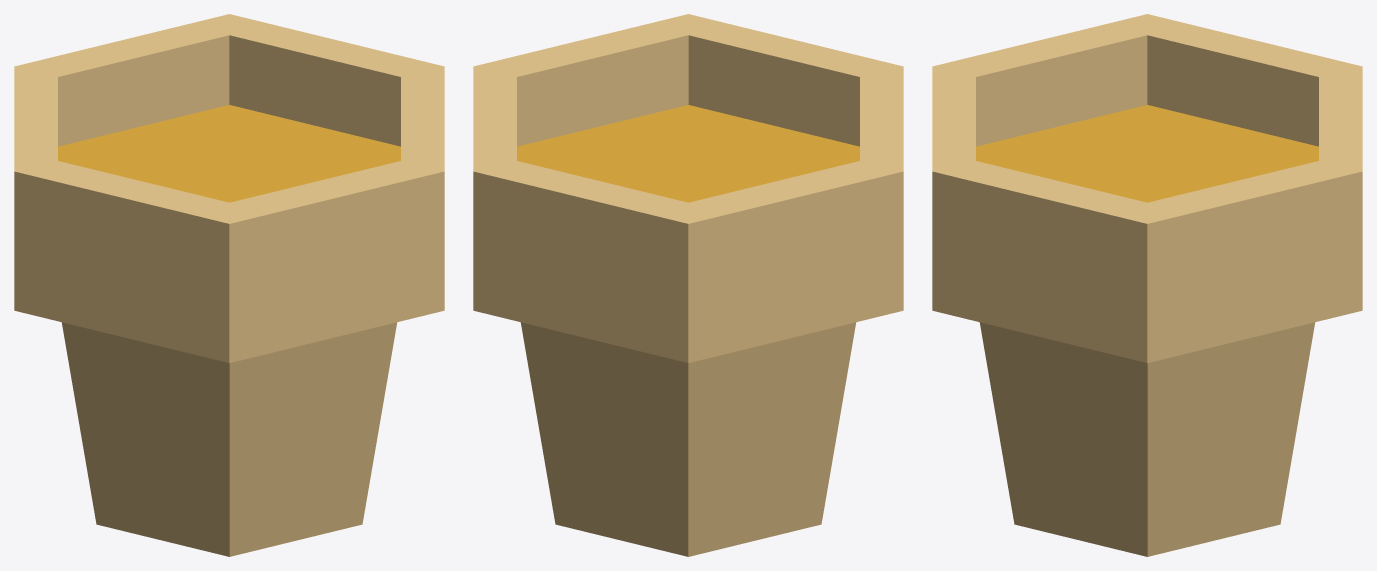
File: decoracao-vaso.glb
3 renders of one model, left to right at view 1: azimuth 30°, elevation 25°; view 2: azimuth 150°, elevation 25°; view 3: azimuth 270°, elevation 25°, orthographic.
Parts seen in each view (by area): view 1: pot_small; view 2: pot_small; view 3: pot_small.
Part boxes in pixels (x1,y1,x2,y2): pot_small: [14, 14, 444, 556]; pot_small: [473, 14, 903, 556]; pot_small: [932, 14, 1362, 556].
Bounding box in the file's own units: 0.3234 × 0.268 × 0.2801.
